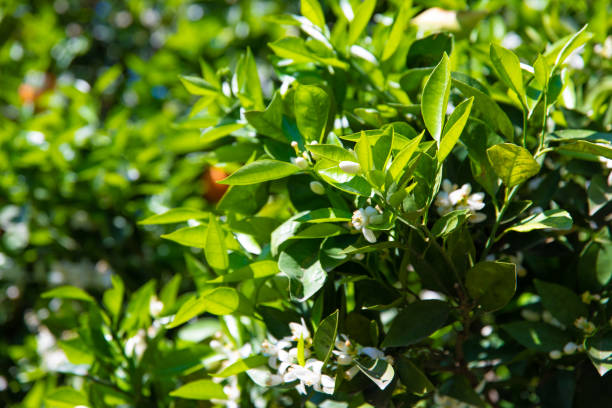flower: (284, 313, 313, 345)
